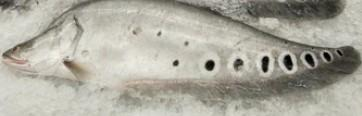Knifefish: (1, 1, 362, 102)
